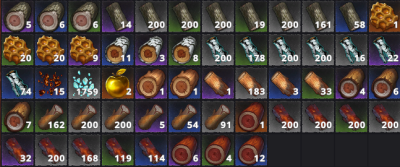ash heartwood: (35, 1, 67, 31), (2, 1, 33, 31), (69, 1, 100, 31)
ash log: (135, 1, 167, 32), (169, 1, 200, 32), (269, 1, 300, 32), (336, 1, 367, 32), (101, 1, 133, 31), (235, 1, 267, 31), (203, 1, 233, 32), (302, 1, 333, 31)
birch heartwood: (103, 34, 133, 65), (169, 35, 200, 64), (136, 34, 165, 64)
birch log: (1, 68, 34, 99), (302, 35, 333, 66), (369, 34, 400, 65), (237, 35, 267, 66), (270, 35, 300, 66), (204, 35, 233, 65), (337, 35, 366, 65)
chaos ember: (35, 67, 67, 99)
ethereal dust: (68, 67, 100, 98)
oak heartwood: (135, 66, 167, 98), (169, 68, 199, 98)
oak log: (302, 67, 334, 99), (269, 67, 300, 98), (202, 68, 234, 98), (236, 68, 267, 98)
spruce heartwood: (335, 67, 367, 99), (2, 101, 34, 131), (369, 68, 399, 98)
spruce log: (68, 101, 100, 132), (136, 101, 167, 132), (169, 101, 201, 131), (36, 101, 66, 132), (202, 102, 234, 131), (102, 102, 133, 130)
yew heartwood: (202, 134, 233, 166), (235, 134, 267, 165), (169, 134, 200, 165), (236, 102, 267, 131)
yew log: (67, 134, 100, 166), (101, 133, 134, 165), (2, 134, 35, 165), (303, 100, 334, 131), (336, 101, 367, 132), (269, 101, 301, 131), (36, 133, 66, 165), (135, 134, 167, 164), (370, 101, 400, 131)
